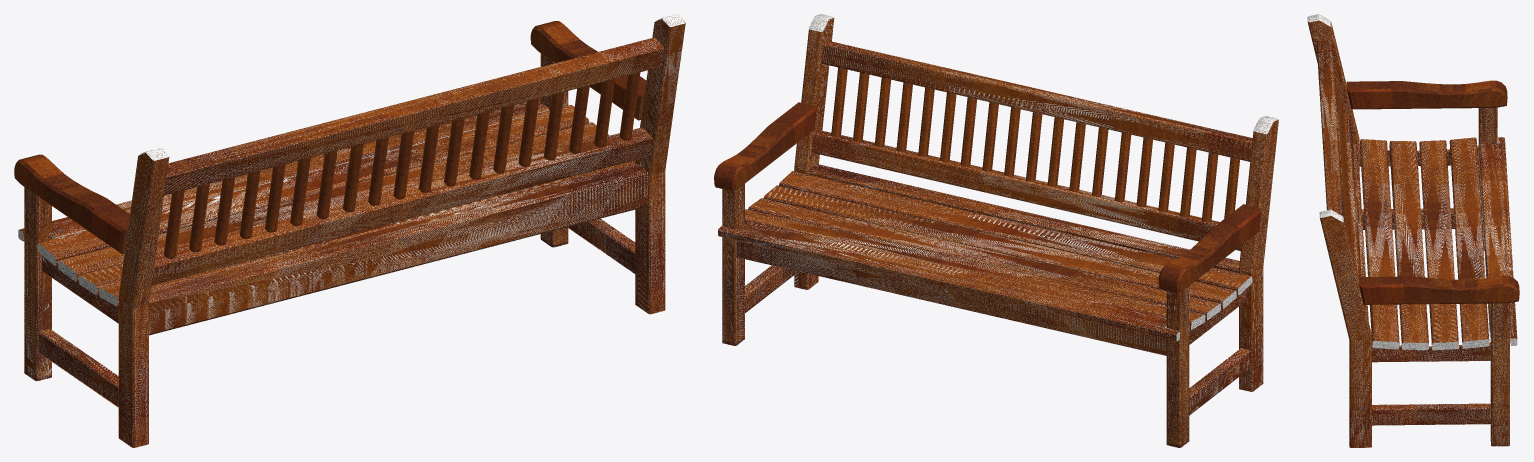
3 renders of one model, left to right at view 1: azimuth 30°, elevation 25°; view 2: azimuth 150°, elevation 25°; view 3: azimuth 270°, elevation 25°, orthographic. The views are drawn at different scales.
Visible parts, largest first — view 1: mesh9_mesh9-geometry, mesh1_mesh1-geometry, mesh16_mesh16-geometry, mesh13_mesh13-geometry, mesh20_mesh20-geometry, mesh7_mesh7-geometry, mesh14_mesh14-geometry, mesh3_mesh3-geometry, mesh6_mesh6-geometry, mesh12_mesh12-geometry, mesh17_mesh17-geometry, mesh4_mesh4-geometry (+5 smaller); view 2: mesh7_mesh7-geometry, mesh1_mesh1-geometry, mesh3_mesh3-geometry, mesh16_mesh16-geometry, mesh12_mesh12-geometry, mesh13_mesh13-geometry, mesh2_mesh2-geometry, mesh20_mesh20-geometry, mesh9_mesh9-geometry, mesh6_mesh6-geometry, mesh11_mesh11-geometry, mesh14_mesh14-geometry (+6 smaller); view 3: mesh3_mesh3-geometry, mesh7_mesh7-geometry, mesh14_mesh14-geometry, mesh18_mesh18-geometry, mesh12_mesh12-geometry, mesh16_mesh16-geometry, mesh10_mesh10-geometry, mesh8_mesh8-geometry, mesh15_mesh15-geometry, mesh5_mesh5-geometry, mesh20_mesh20-geometry, mesh11_mesh11-geometry (+6 smaller).
Boxes of the visible parts, x1,y1,x2,y2 form: mesh9_mesh9-geometry: (149, 164, 647, 335); mesh1_mesh1-geometry: (164, 72, 640, 258); mesh16_mesh16-geometry: (164, 37, 663, 195); mesh13_mesh13-geometry: (151, 127, 651, 285); mesh20_mesh20-geometry: (118, 148, 169, 447); mesh7_mesh7-geometry: (58, 122, 635, 306); mesh14_mesh14-geometry: (635, 14, 685, 314); mesh3_mesh3-geometry: (37, 105, 589, 295); mesh6_mesh6-geometry: (24, 187, 51, 381); mesh12_mesh12-geometry: (18, 98, 549, 241); mesh17_mesh17-geometry: (14, 160, 124, 253); mesh4_mesh4-geometry: (38, 328, 118, 407); mesh7_mesh7-geometry: (748, 171, 1252, 320); mesh1_mesh1-geometry: (831, 67, 1239, 221); mesh3_mesh3-geometry: (745, 185, 1236, 329); mesh16_mesh16-geometry: (821, 41, 1252, 161); mesh12_mesh12-geometry: (718, 222, 1179, 341); mesh13_mesh13-geometry: (811, 130, 1241, 250); mesh2_mesh2-geometry: (736, 240, 1166, 355); mesh20_mesh20-geometry: (1239, 116, 1278, 391); mesh9_mesh9-geometry: (809, 164, 1239, 273); mesh6_mesh6-geometry: (1166, 286, 1189, 447); mesh11_mesh11-geometry: (715, 102, 816, 191); mesh14_mesh14-geometry: (794, 14, 834, 289); mesh3_mesh3-geometry: (1389, 137, 1489, 350); mesh7_mesh7-geometry: (1359, 139, 1458, 350); mesh14_mesh14-geometry: (1319, 209, 1371, 447); mesh18_mesh18-geometry: (1346, 80, 1507, 109); mesh12_mesh12-geometry: (1478, 137, 1517, 345); mesh16_mesh16-geometry: (1316, 38, 1345, 223); mesh10_mesh10-geometry: (1359, 283, 1519, 304); mesh8_mesh8-geometry: (1490, 303, 1509, 446); mesh15_mesh15-geometry: (1372, 403, 1490, 425); mesh5_mesh5-geometry: (1372, 342, 1490, 362); mesh20_mesh20-geometry: (1307, 14, 1359, 170); mesh11_mesh11-geometry: (1358, 276, 1519, 292).
Bounding box in the file's own units: 0.8258 × 0.4351 × 0.3588.
